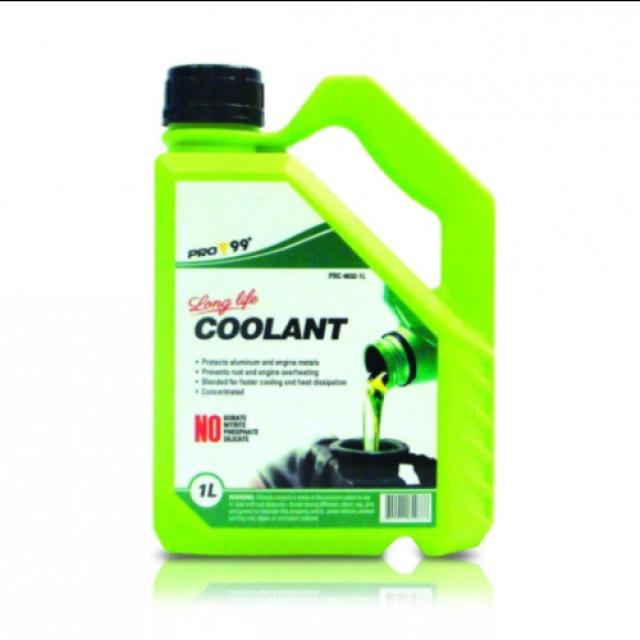coolant: (146, 56, 498, 564)
